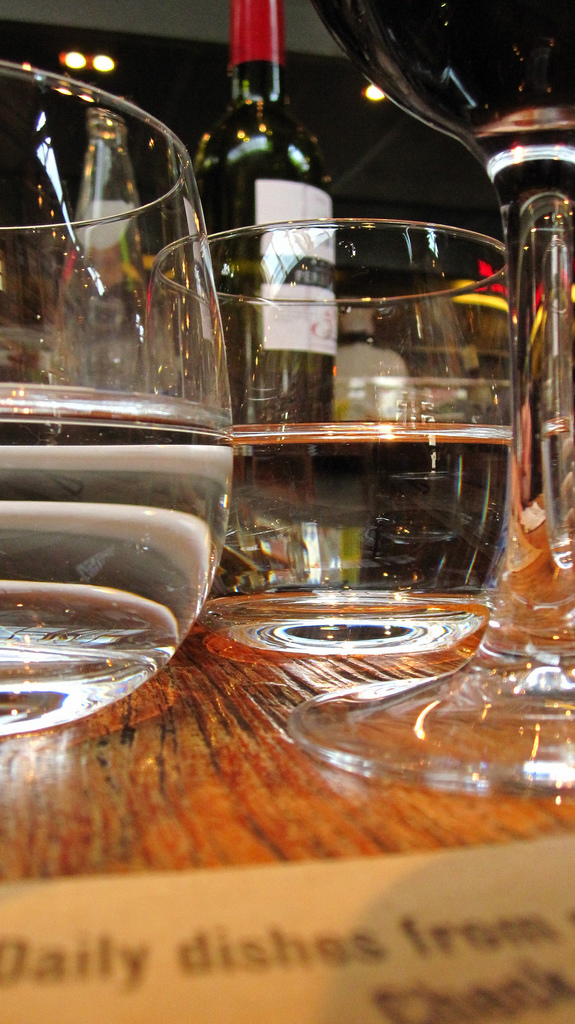glass of water: (214, 215, 485, 656), (21, 95, 160, 693)
